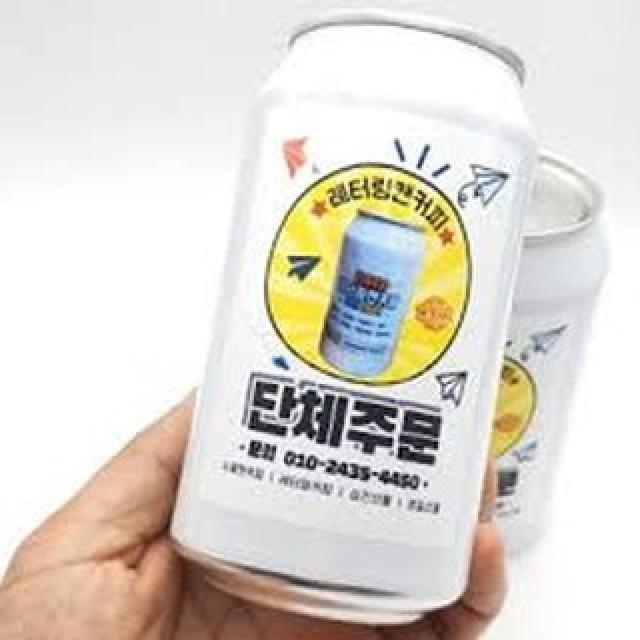can: (172, 14, 534, 628)
